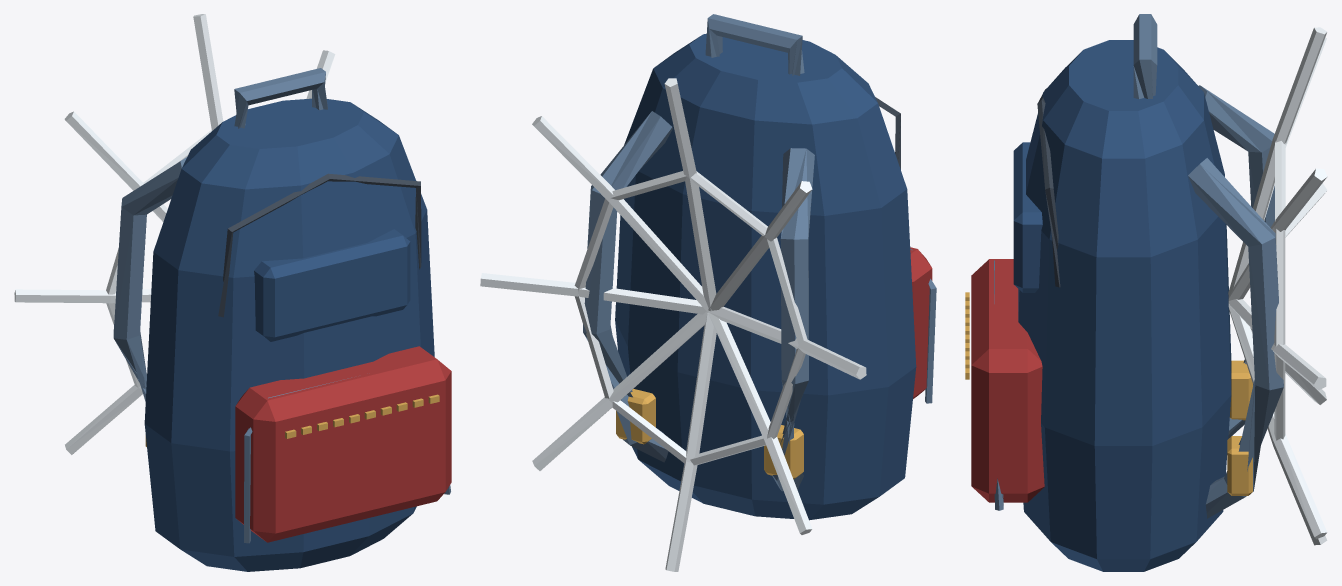
The model's file is webbed_backpack.fbx.
3 renders of one model, left to right at view 1: azimuth 30°, elevation 25°; view 2: azimuth 150°, elevation 25°; view 3: azimuth 270°, elevation 25°, orthographic. The views are drawn at different scales.
Parts seen in each view (by area): view 1: webbed_backpack; view 2: webbed_backpack; view 3: webbed_backpack.
Boxes of the visible parts, bbox=[...] form: webbed_backpack: bbox=[14, 14, 451, 571]; webbed_backpack: bbox=[480, 14, 936, 571]; webbed_backpack: bbox=[965, 14, 1327, 571].
Size of the model in its own units: 180 by 220 by 140.
